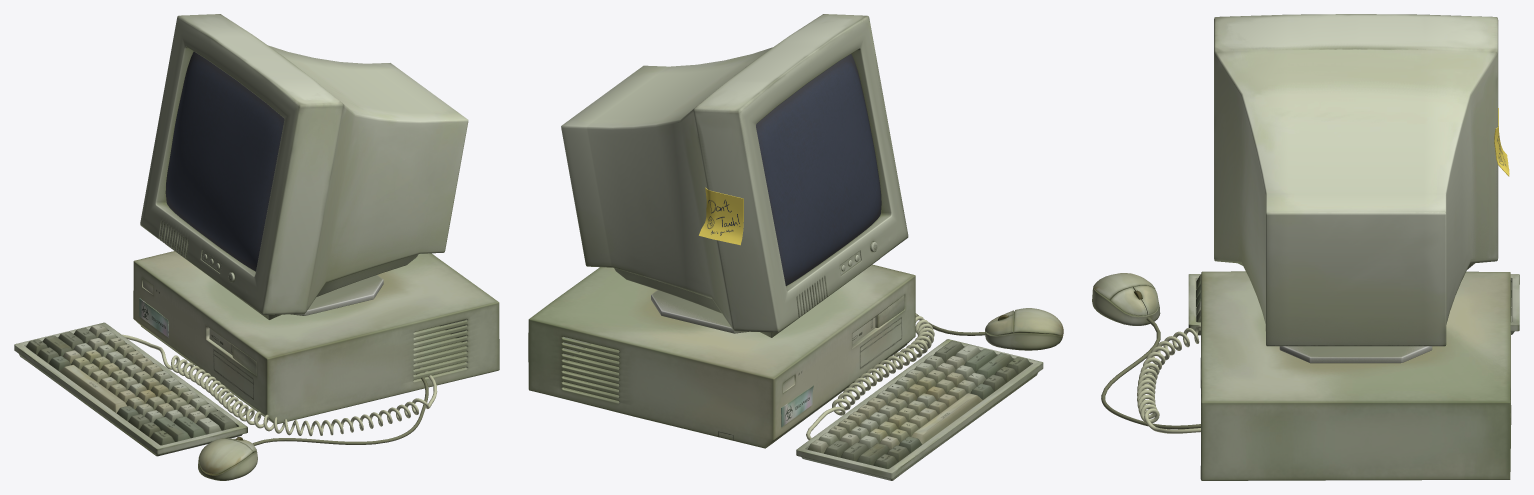
3 views of the same model, side by side, from view 1: azimuth 30°, elevation 25°; view 2: azimuth 150°, elevation 25°; view 3: azimuth 270°, elevation 25° (orthographic). The views are drawn at different scales.
Parts seen in each view (by area): view 1: Cube.049_4, Cube.055_9, Cube.054_8, Plane.020_16, Cube.045_14, Circle.002_2, Cube.053_7, Plane.022_19, object 3, Plane.023_20, Cube.057_11; view 2: Cube.049_4, Cube.055_9, Cube.054_8, Plane.020_16, Cube.045_14, Circle.002_2, StickyNote.016_0, Cube.053_7, Plane.023_20, Plane.022_19, Cube.057_11; view 3: Cube.049_4, Cube.055_9, Cube.053_7, Circle.002_2, Plane.021_18, Cube.045_14, Plane.023_20, object 3, Plane.022_19.
Part boxes in pixels (box(x1,y1,x2,y2)): Cube.049_4: box(140, 14, 468, 319); Cube.055_9: box(133, 251, 499, 424); Cube.054_8: box(165, 51, 284, 271); Plane.020_16: box(26, 324, 237, 445); Cube.045_14: box(14, 322, 247, 456); Circle.002_2: box(122, 334, 437, 436); Cube.053_7: box(291, 275, 383, 315); Plane.022_19: box(198, 438, 252, 473); object 3: box(252, 369, 428, 445); Plane.023_20: box(198, 450, 257, 480); Cube.057_11: box(139, 298, 168, 337); Cube.049_4: box(561, 14, 908, 337); Cube.055_9: box(528, 264, 915, 448); Cube.054_8: box(756, 54, 881, 285); Plane.020_16: box(807, 341, 1031, 468); Cube.045_14: box(796, 339, 1043, 480); Circle.002_2: box(806, 313, 934, 439); StickyNote.016_0: box(699, 187, 743, 245); Cube.053_7: box(651, 290, 748, 333); Plane.023_20: box(985, 330, 1063, 350); Plane.022_19: box(1014, 308, 1063, 335); Cube.057_11: box(781, 385, 813, 427); Cube.049_4: box(1214, 14, 1498, 346); Cube.055_9: box(1200, 271, 1511, 480); Cube.053_7: box(1279, 346, 1432, 363); Circle.002_2: box(1137, 325, 1200, 433); Plane.021_18: box(1110, 285, 1158, 315); Cube.045_14: box(1188, 274, 1519, 335); Plane.023_20: box(1092, 287, 1160, 325); object 3: box(1101, 317, 1200, 429); Plane.022_19: box(1093, 273, 1155, 300).
Size of the model in its own units: 6.89 by 5.93 by 6.35.
9 materials, 7 textured.
